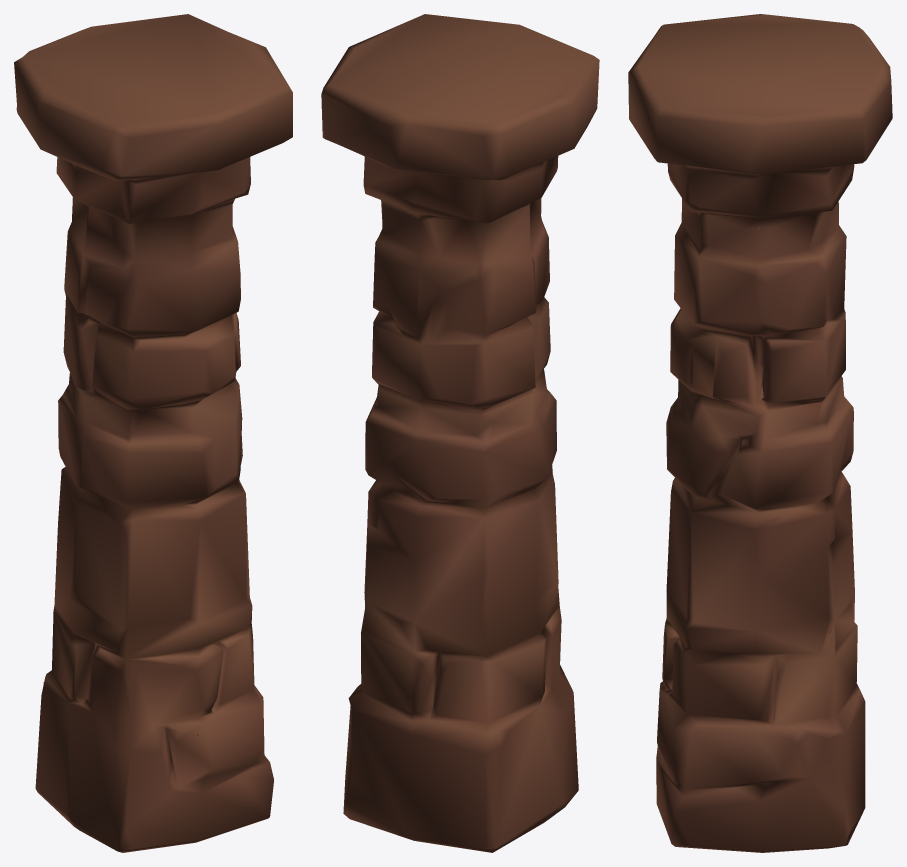
The model's file is gen3d-rock-pillar-lod1.glb.
The picture shows the model from 3 angles, left to right: view 1: azimuth 30°, elevation 25°; view 2: azimuth 150°, elevation 25°; view 3: azimuth 270°, elevation 25°; orthographic projection.
Parts seen in each view (by area): view 1: part_0; view 2: part_0; view 3: part_0.
Part boxes in pixels (x1=…): part_0: x1=14, y1=14, x2=292, y2=852; part_0: x1=321, y1=14, x2=599, y2=852; part_0: x1=628, y1=14, x2=892, y2=852.
Bounding box in the file's own units: 0.3209 × 0.9999 × 0.3211.
